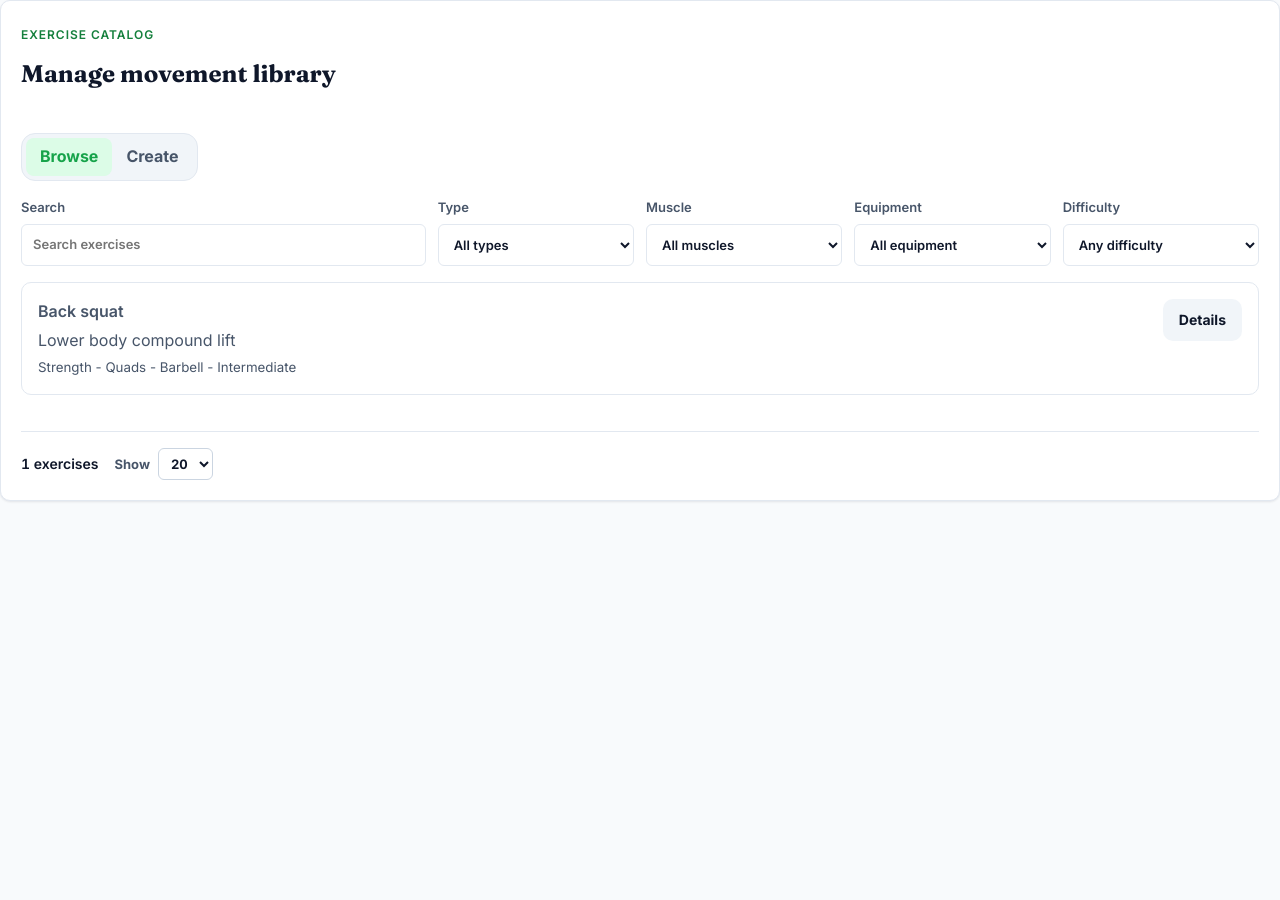
Test: ExerciseLibraryComponent › switches between browse and create library views
The width and height of the screenshot is (1280, 900).
Expected: the form with class "filter-panel" is shown, [21,197,1259,266]
Expected: the element with class "exercise-list" is shown, [21,282,1259,396]
Step 1. Click the button "Create" → click(152, 157), box [112,138,193,176]
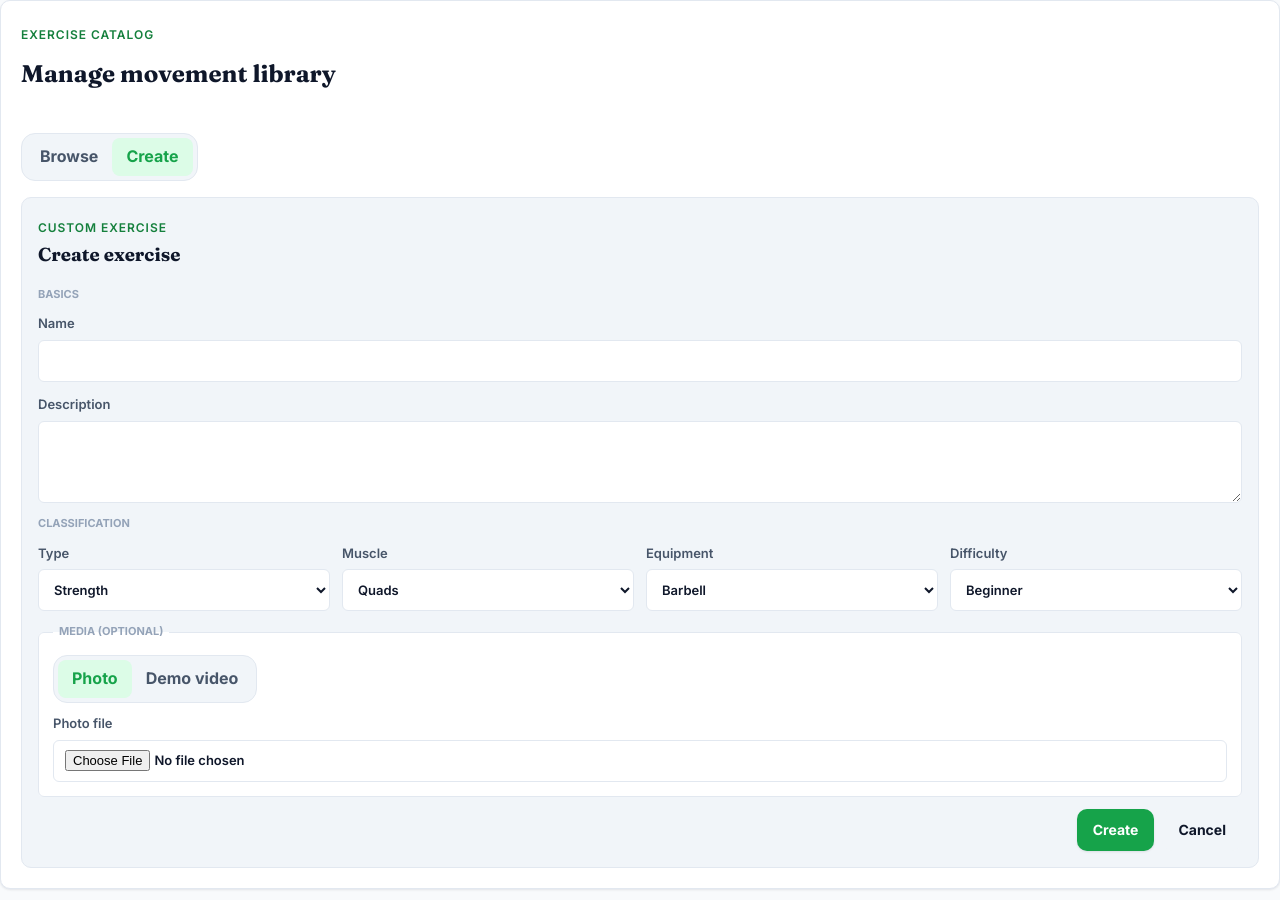
Result: the element named "Create custom exercise" is shown
Result: the form with class "filter-panel" is gone
Result: the element with class "exercise-list" is gone
Step 2. Click the button "Cancel" → click(1202, 830), box [1162,809,1242,851]
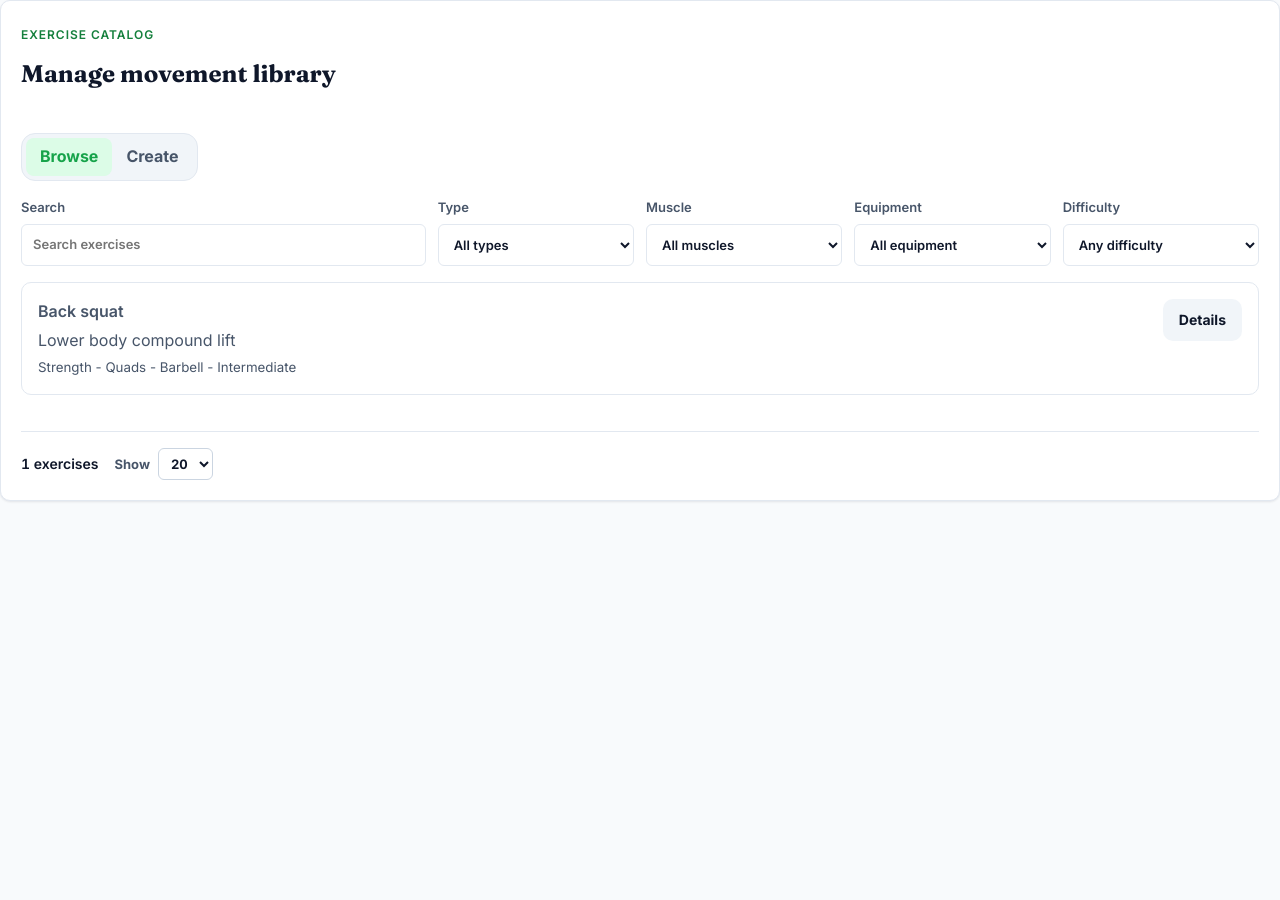
Result: the form with class "filter-panel" is shown at [21,197,1259,266]
Result: the element with class "exercise-list" is shown at [21,282,1259,396]
